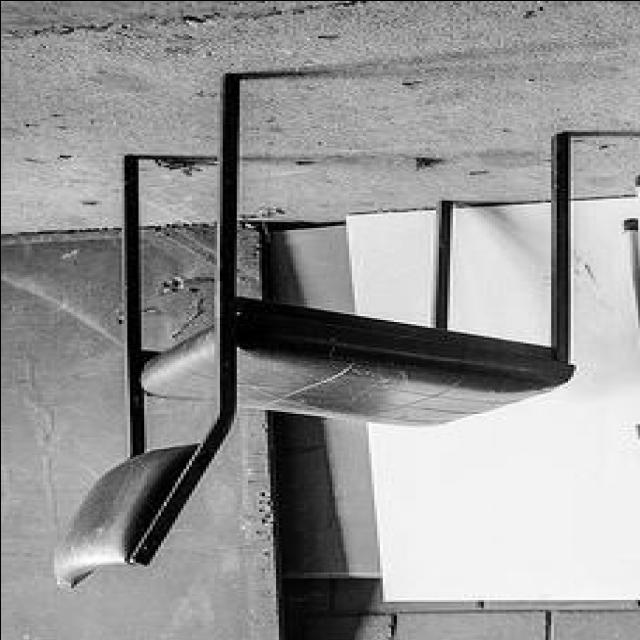chair: (41, 76, 574, 587)
